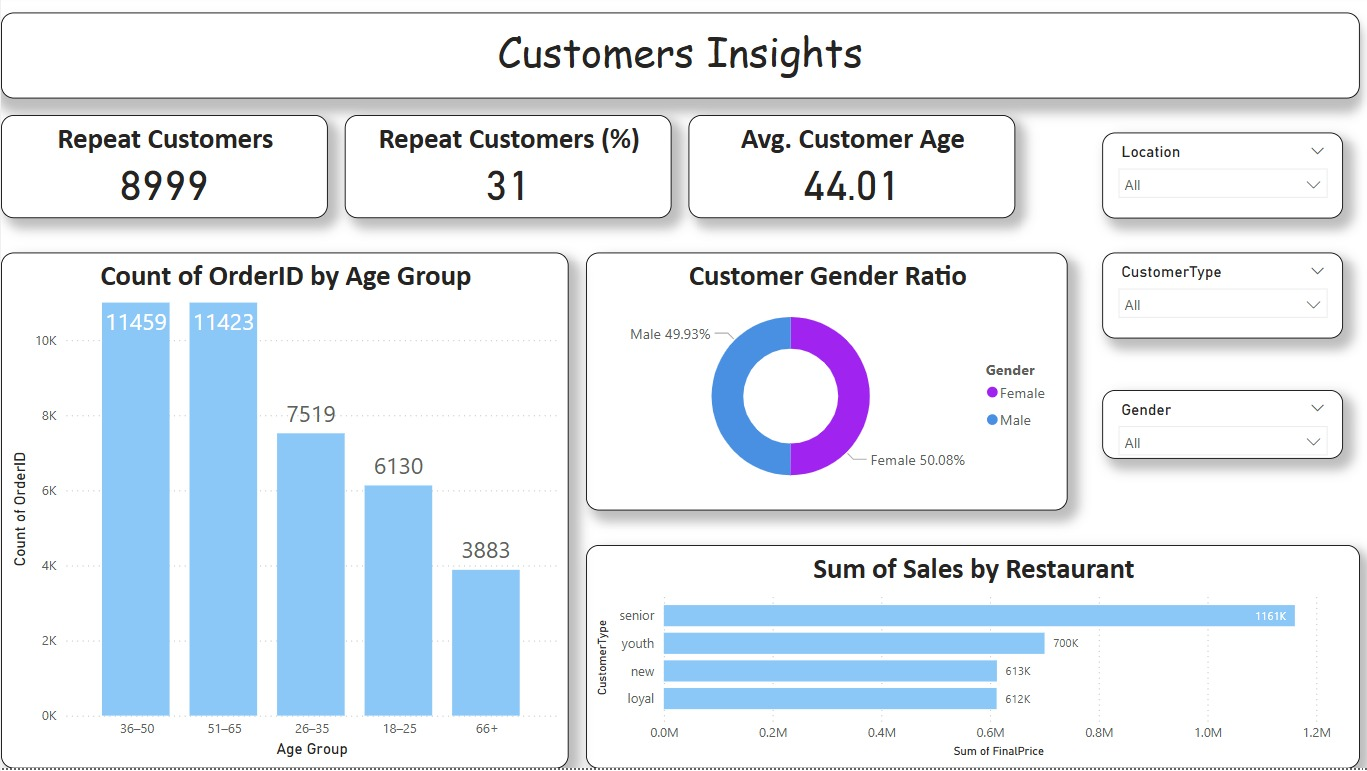

The page's visual inventory and layout, read from the dashboard file:
{"tool":"powerbi","page":{"name":"Customers Insights","canvas":[1280,720],"ordinal":1},"visuals":[{"type":"textbox","box":[0,0,1264,80],"z":0},{"type":"card","title":"Repeat Customers","fields":{"Values":["Food_Delivery final dataset.Unique Customers"]},"box":[0,112,304,96],"z":1000},{"type":"card","title":"Repeat Customers (%)","fields":{"Values":["Food_Delivery final dataset.Avg Order Value"]},"box":[320,112,304,96],"z":2000},{"type":"card","title":"Avg. Customer Age","fields":{"Values":["Food_Delivery final dataset.Avg Customer Age"]},"box":[640,112,304,96],"z":3000},{"type":"donutChart","title":"Customer Gender Ratio","fields":{"Y":["CountNonNull(Food_Delivery final dataset.CustomerID)"],"Category":["Food_Delivery final dataset.Gender"]},"box":[544,240,448,240],"z":4000},{"type":"barChart","title":"Sum of Sales by Restaurant","fields":{"Category":["Food_Delivery final dataset.CustomerType"],"Y":["Sum(Food_Delivery final dataset.FinalPrice)"]},"box":[544,512,720,208],"z":5000},{"type":"clusteredColumnChart","fields":{"Category":["Food_Delivery final dataset.Age Group"],"Y":["CountNonNull(Food_Delivery final dataset.OrderID)"]},"box":[0,240,528,480],"z":6000},{"type":"slicer","fields":{"Values":["Food_Delivery final dataset.Location"]},"box":[1024,128,224,80],"z":7000},{"type":"slicer","fields":{"Values":["Food_Delivery final dataset.CustomerType"]},"box":[1024,240,224,80],"z":8000},{"type":"slicer","fields":{"Values":["Food_Delivery final dataset.Gender"]},"box":[1024,368,224,64],"z":9000}]}

Visuals, with their boxes in screenshot pixels (x1, y1, x2, y2), scaled from the page's 1280x720 canvas onto the 1367x771 screenshot:
textbox: bbox=[0, 0, 1350, 86]
"Repeat Customers" card: bbox=[0, 120, 325, 223]
"Repeat Customers (%)" card: bbox=[342, 120, 666, 223]
"Avg. Customer Age" card: bbox=[684, 120, 1008, 223]
"Customer Gender Ratio" donutChart: bbox=[581, 257, 1059, 514]
"Sum of Sales by Restaurant" barChart: bbox=[581, 548, 1350, 770]
clusteredColumnChart - Food_Delivery final dataset.Age Group x CountNonNull(Food_Delivery final dataset.OrderID): bbox=[0, 257, 564, 770]
slicer - Food_Delivery final dataset.Location: bbox=[1094, 137, 1333, 223]
slicer - Food_Delivery final dataset.CustomerType: bbox=[1094, 257, 1333, 343]
slicer - Food_Delivery final dataset.Gender: bbox=[1094, 394, 1333, 463]
